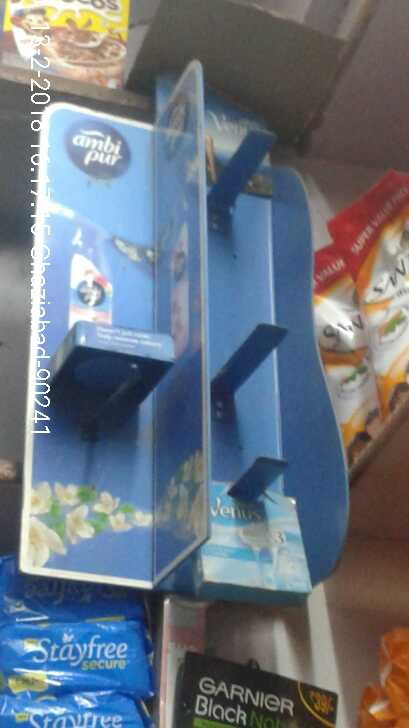reject: (40, 146, 169, 337)
